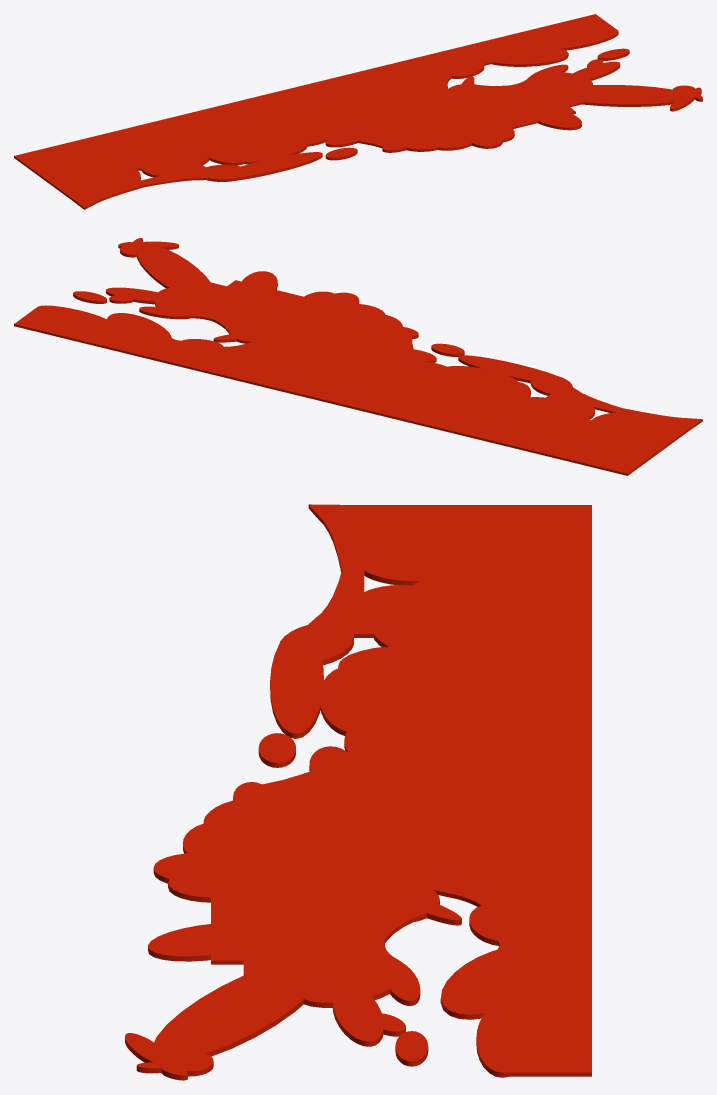
The model's file is Land_b0.fbx.
The picture shows the model from 3 angles, top to bottom: view 1: azimuth 30°, elevation 25°; view 2: azimuth 150°, elevation 25°; view 3: azimuth 270°, elevation 25°; orthographic projection. The views are drawn at different scales.
Visible parts, largest first — view 1: Cube, Cube__9_, Cube__3_, Cube__4_, Circle__20_, Cube__5_, Cube__1_, Cube__10_, Circle__12_, Circle__28_, Circle, Circle__33_ (+14 smaller); view 2: Cube, Cube__9_, Cube__3_, Cube__4_, Circle__20_, Cube__5_, Cube__1_, Cube__10_, Circle__12_, Circle__28_, Cube__2_, Circle (+12 smaller); view 3: Cube, Cube__9_, Cube__3_, Cube__4_, Circle__20_, Cube__5_, Cube__1_, Cube__10_, Circle__12_, Circle__28_, Circle, Cube__2_ (+21 smaller).
Part boxes in pixels (x1,y1,x2,y2): Cube: (14, 14, 616, 173); Cube__9_: (360, 83, 583, 148); Cube__3_: (102, 76, 444, 167); Cube__4_: (148, 87, 447, 166); Circle__20_: (550, 85, 688, 106); Cube__5_: (228, 96, 455, 155); Cube__1_: (36, 163, 113, 202); Cube__10_: (418, 105, 575, 148); Circle__12_: (215, 152, 322, 180); Circle__28_: (528, 71, 592, 91); Circle: (492, 47, 568, 66); Circle__33_: (548, 29, 618, 50); Cube: (14, 307, 651, 475); Cube__9_: (198, 282, 412, 356); Cube__3_: (236, 343, 597, 439); Cube__4_: (252, 338, 574, 419); Circle__20_: (136, 244, 214, 300); Cube__5_: (270, 332, 508, 394); Cube__1_: (610, 416, 692, 458); Cube__10_: (227, 280, 393, 324); Circle__12_: (458, 355, 570, 384); Circle__28_: (154, 287, 202, 319); Cube__2_: (582, 418, 639, 446); Circle: (107, 313, 171, 339); Cube: (502, 505, 591, 1076); Cube__9_: (243, 788, 372, 975); Cube__3_: (441, 569, 502, 888); Cube__4_: (407, 598, 441, 888); Circle__20_: (152, 959, 323, 1059); Cube__5_: (372, 668, 406, 883); Cube__1_: (347, 505, 502, 542); Cube__10_: (211, 814, 244, 964); Circle__12_: (270, 630, 323, 738); Circle__28_: (293, 955, 407, 1007); Circle: (440, 949, 502, 1019); Cube__2_: (391, 542, 502, 569).
Bounding box in the file's own units: 1509 × 6.4 × 522.
